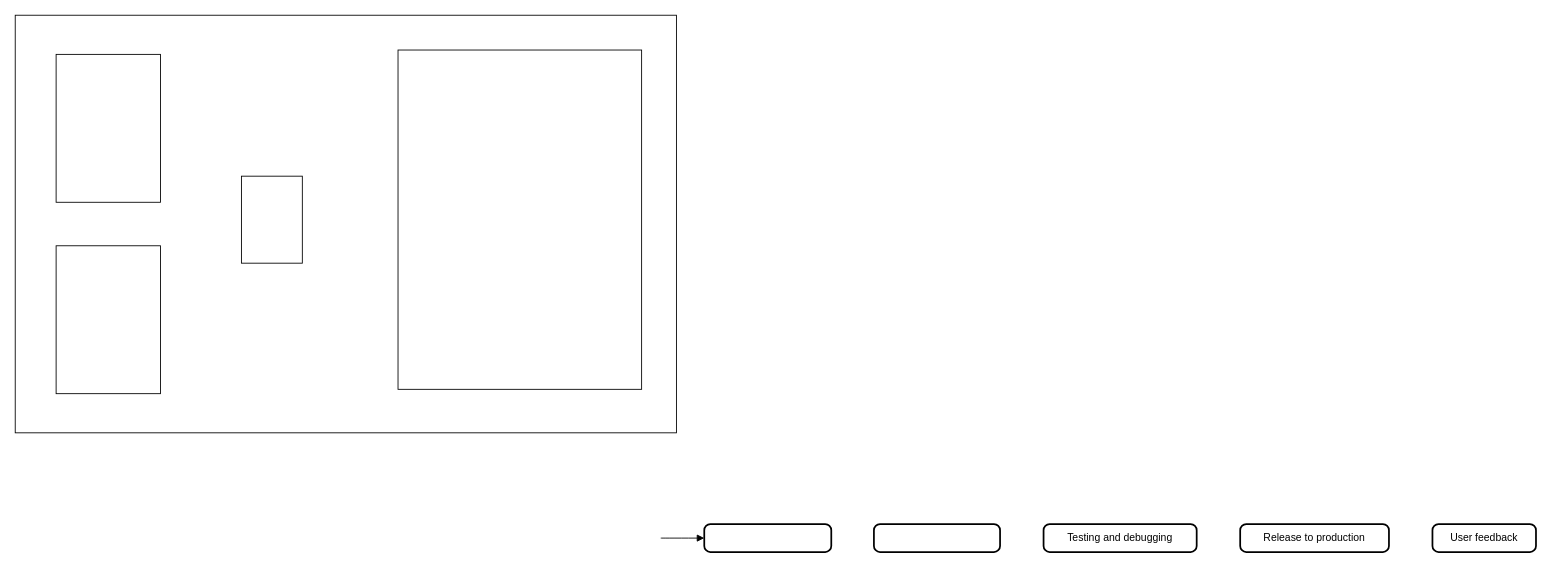
This 1552x568 diagram has some shape labels left out. The centre of each missing label's shape, as x and y in pixels:
"Design application" belongs at pixel 767 537.
"Develop prototype" belongs at pixel 936 537.
